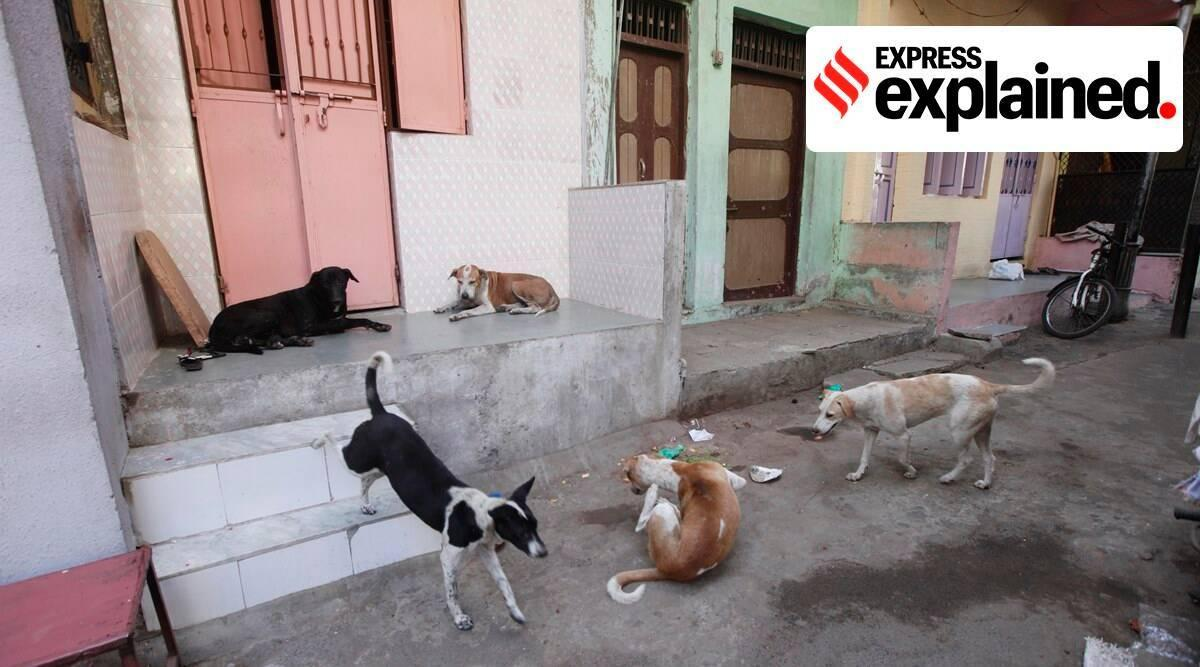dog_aggressive: (336, 350, 552, 635)
normal_dogs: (809, 353, 1063, 489), (605, 436, 751, 605), (193, 253, 398, 354), (429, 251, 561, 324)
